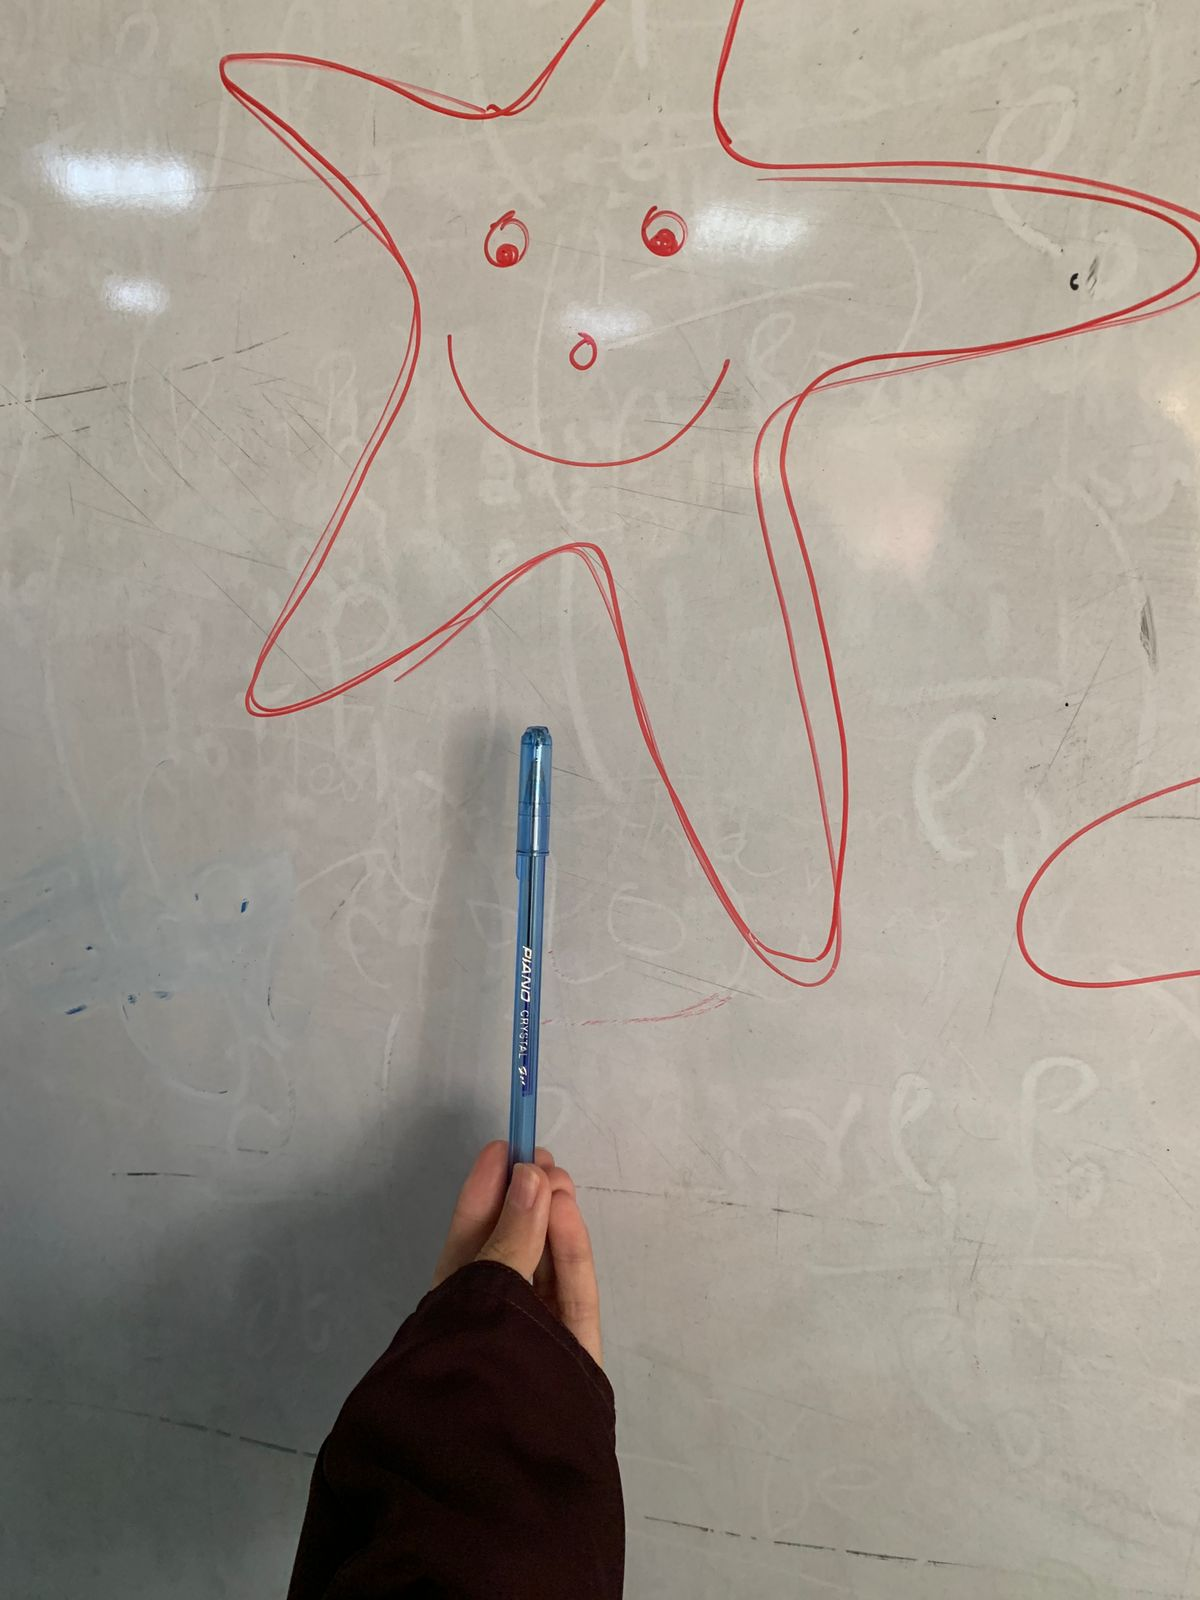pen: (339, 603, 724, 1367)
